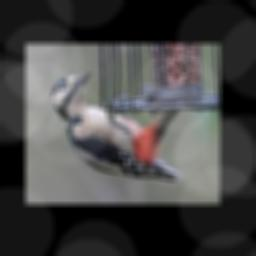Woodpecker: (51, 71, 181, 181)
